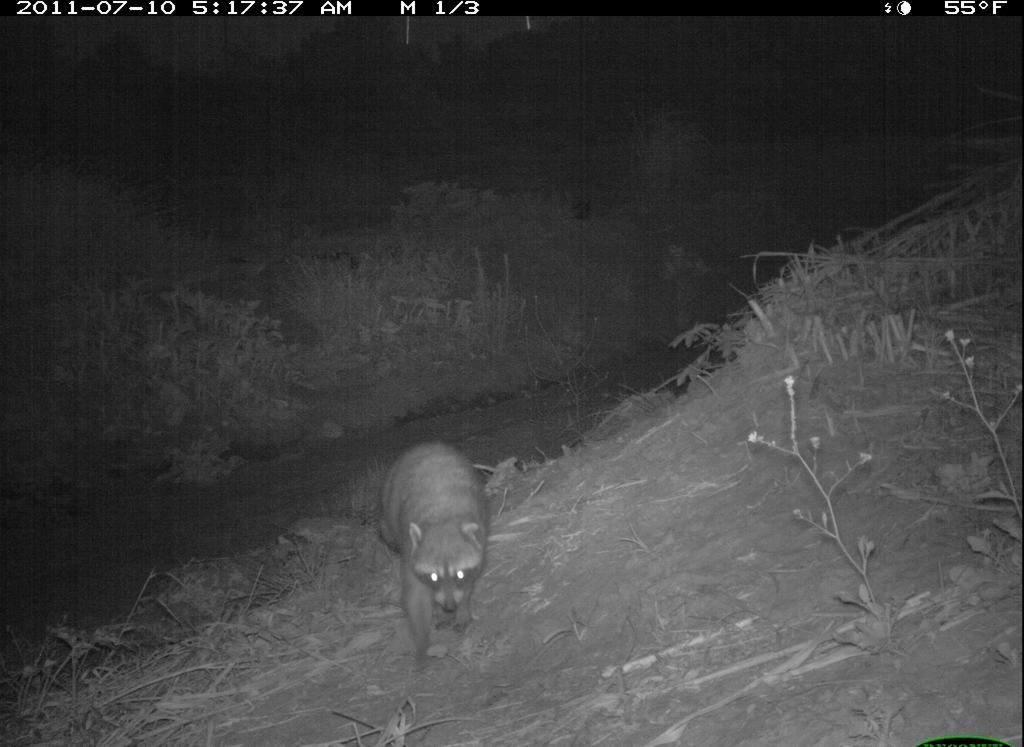raccoon: (376, 429, 509, 666)
